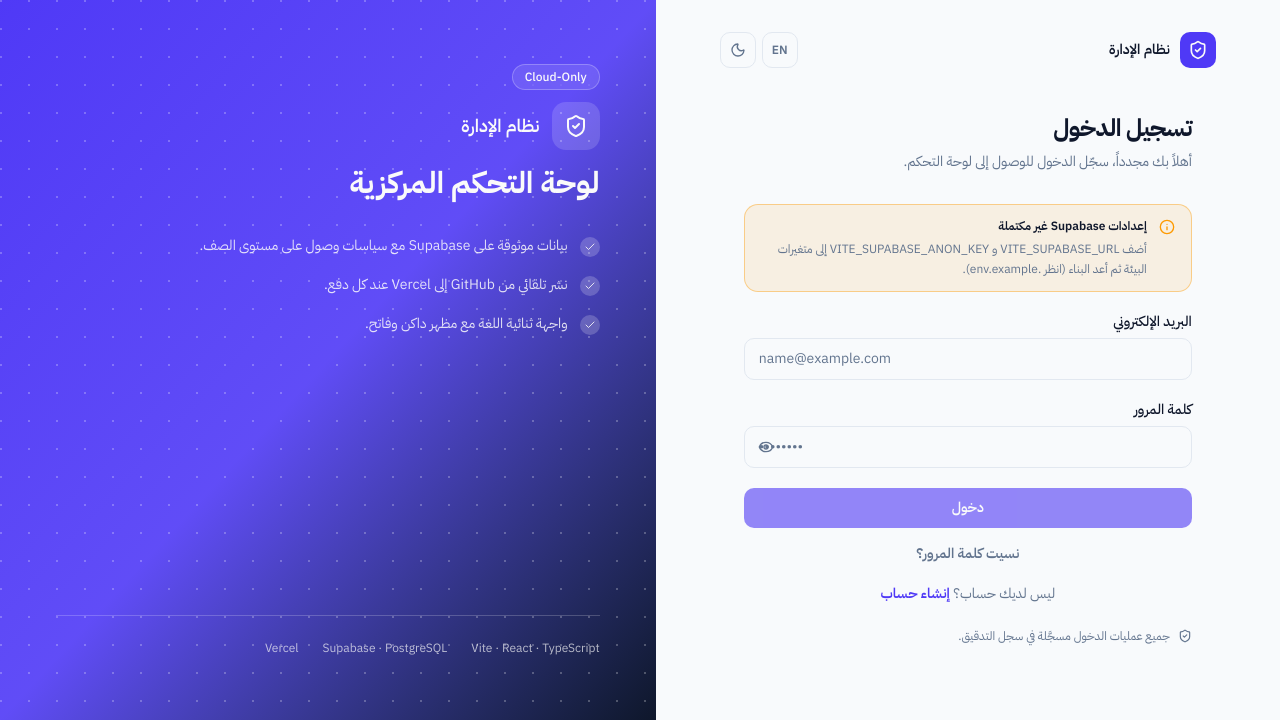
Test: Login (standalone screen) › refuses a pending account and clears its session
This screenshot has width=1280, height=720.
Type "pending@example.com" into the field labelled "البريد الإلكتروني".
click(968, 359); type("pending@example.com")  # box [744,338,1192,380]
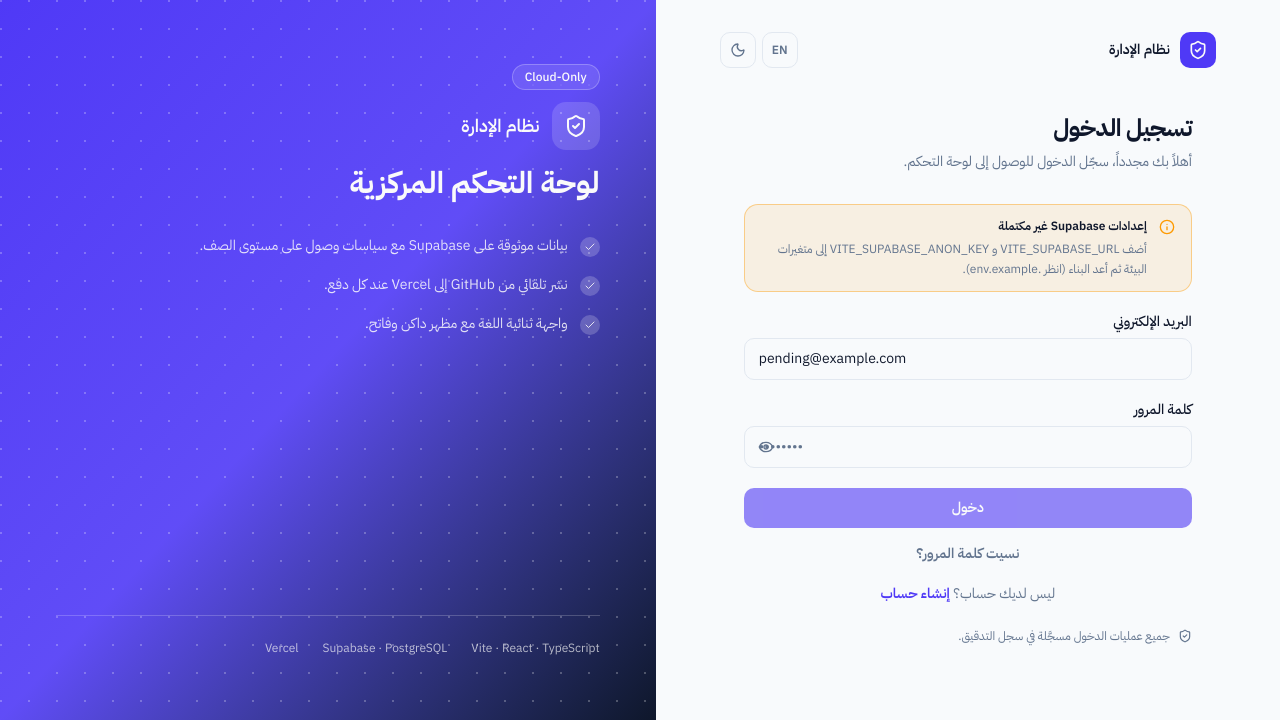
Type "secret-pass" into the password field labelled "كلمة المرور".
click(968, 447); type("secret-pass")  # box [744,426,1192,468]
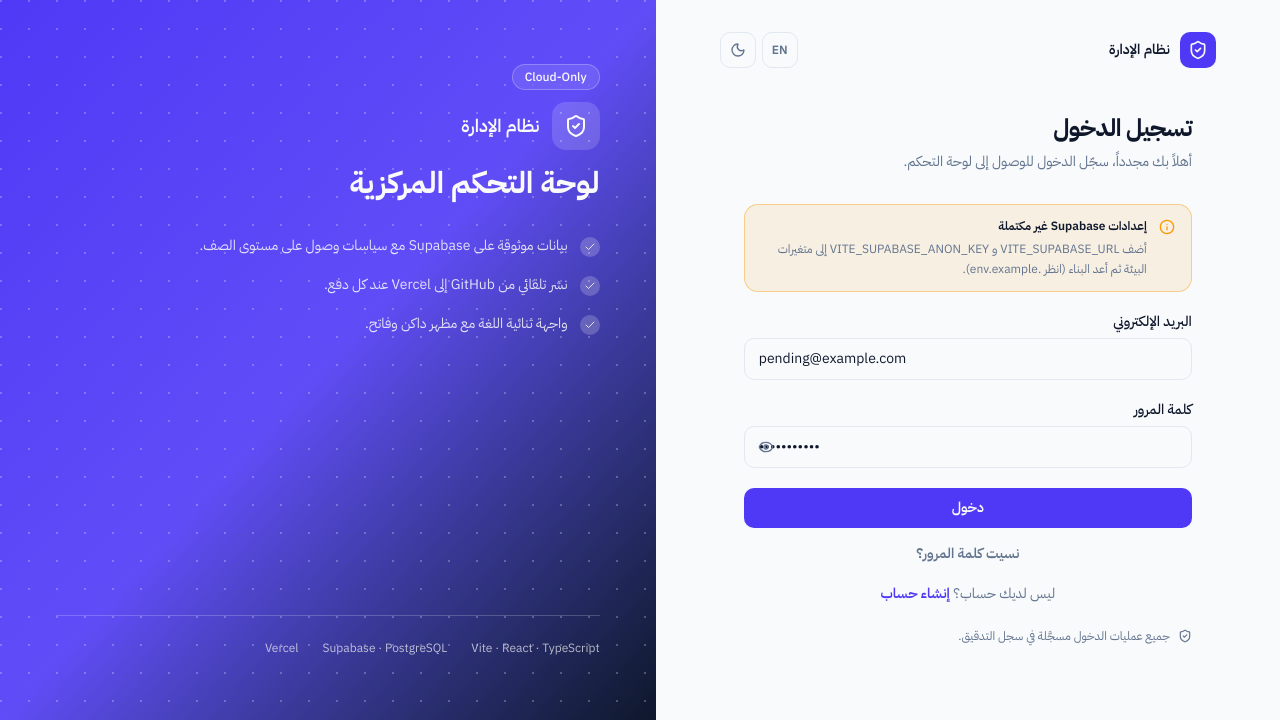
Now the button "دخول" is enabled
Click the button "دخول".
click(968, 508)  # box [744,488,1192,528]
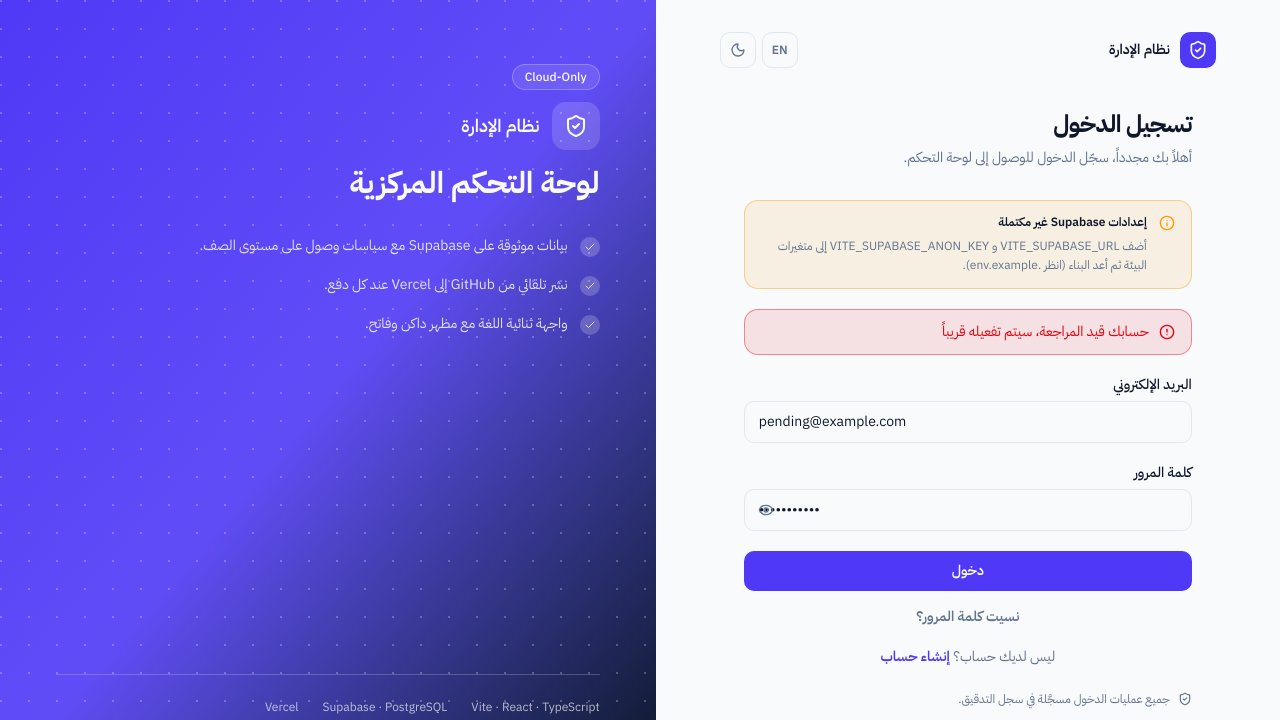
Now the text "حسابك قيد المراجعة، سيتم تفعيله قريباً" is shown, box [942,322,1149,342]
